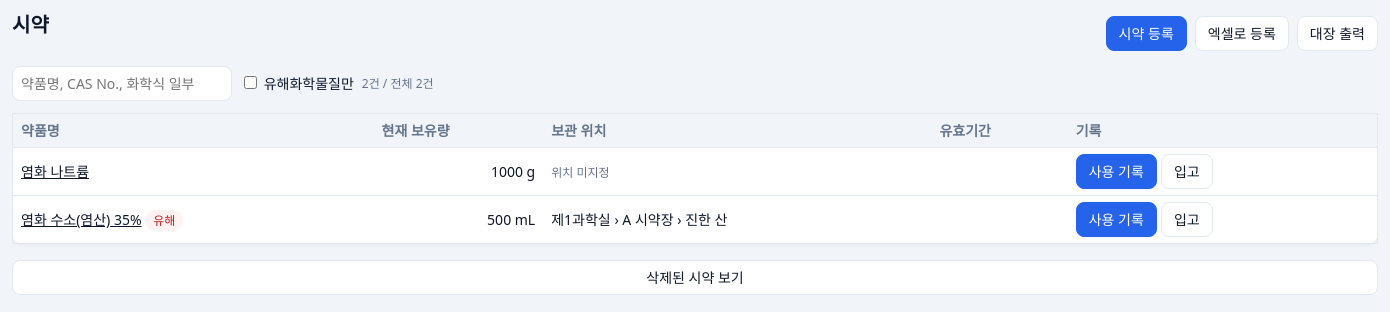
Test: reagent list › search matches part of the name, CAS No. or formula; hazardous-only filter
Type "7647-01" into the field named "시약 검색".
click(122, 84); type("7647-01")  # box [12,66,232,101]
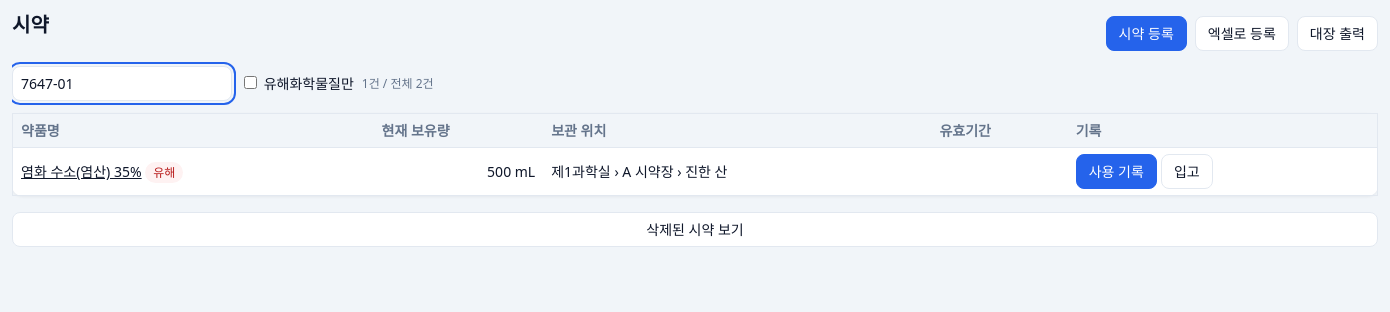
Expected: the cell "염화 수소(염산) 35% 유해" is shown, [12,148,374,196]
Expected: the link "염화 나트륨" is gone
Clear the field named "시약 검색" at (122, 84), box [12,66,232,101]
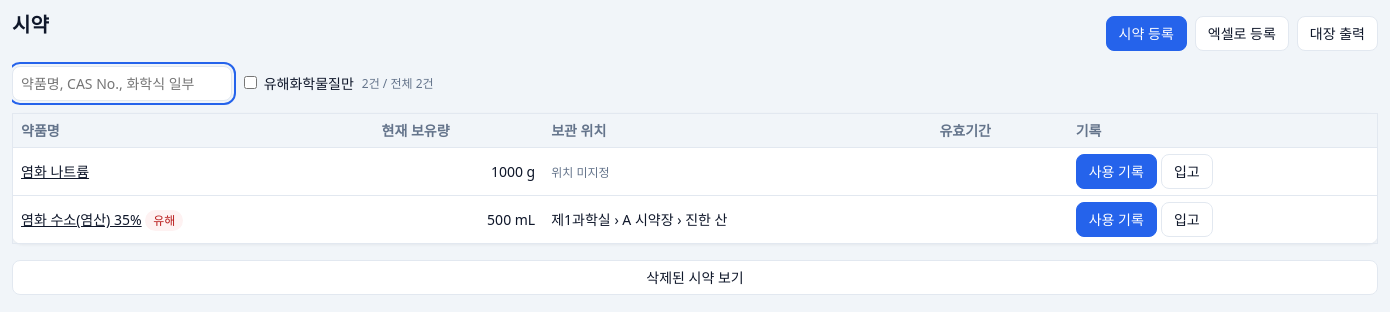
Click the checkbox labelled "유해화학물질만".
click(250, 82)  # box [244,76,257,89]
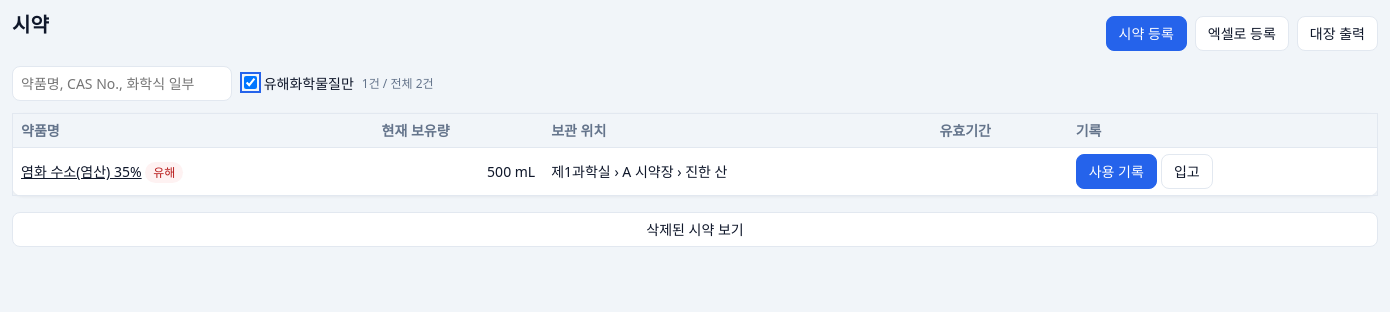
Expected: the link "염화 나트륨" is gone
